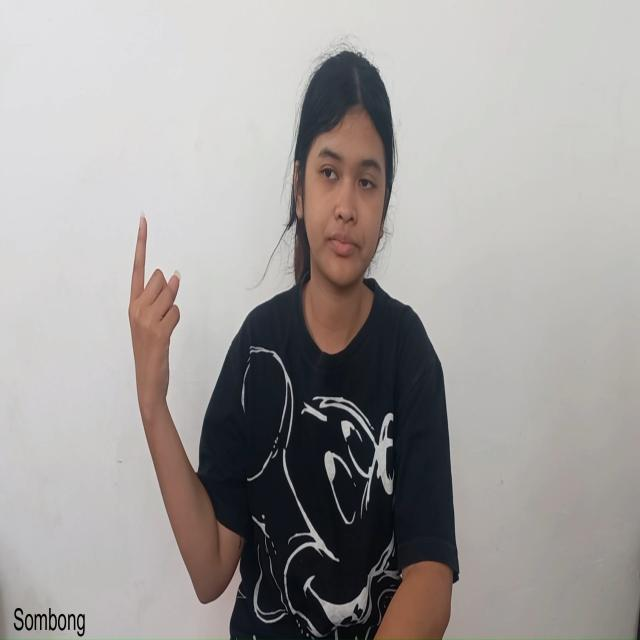Sombong -BISINDO-: (125, 196, 235, 607)
